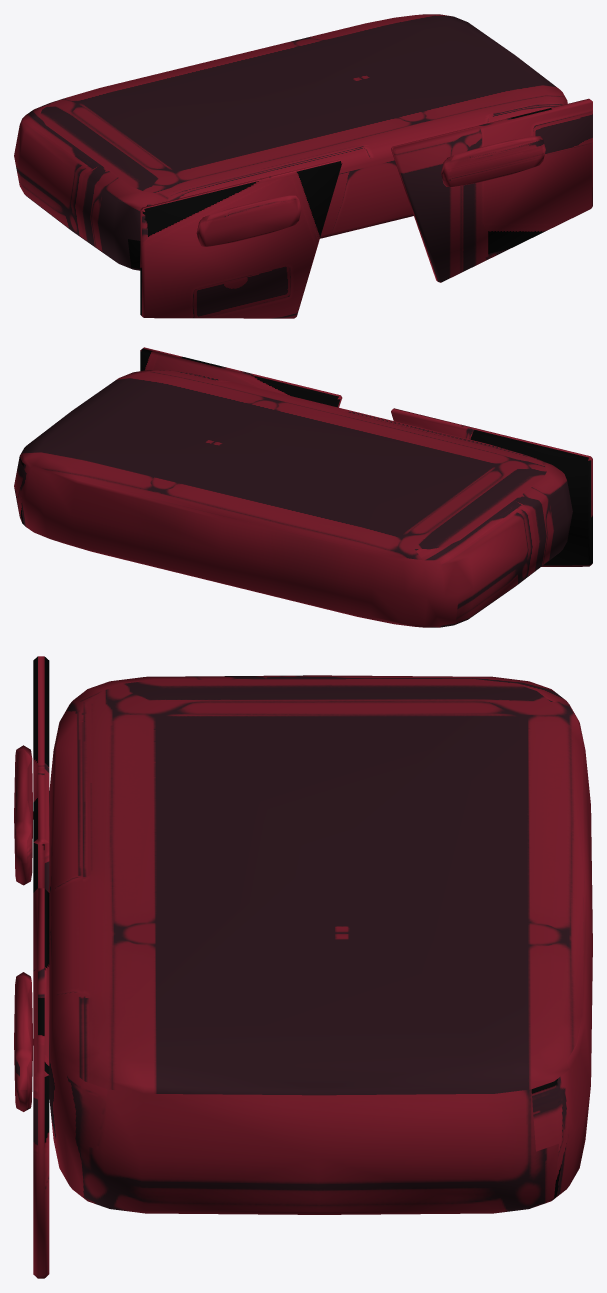
The model's file is Mascarada_SacoBajo.fbx.
3 renders of one model, top to bottom at view 1: azimuth 30°, elevation 25°; view 2: azimuth 150°, elevation 25°; view 3: azimuth 270°, elevation 25°, orthographic. The views are drawn at different scales.
Visible parts, largest first — view 1: Mascarada_SacoBajo; view 2: Mascarada_SacoBajo; view 3: Mascarada_SacoBajo.
Boxes of the visible parts, x1,y1,x2,y2 form: Mascarada_SacoBajo: (14,14,592,318); Mascarada_SacoBajo: (14,347,592,627); Mascarada_SacoBajo: (14,656,592,1278).
Size of the model in its own units: 2.24 by 0.684 by 1.29.
